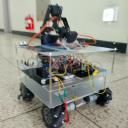cart: (15, 43, 113, 128)
